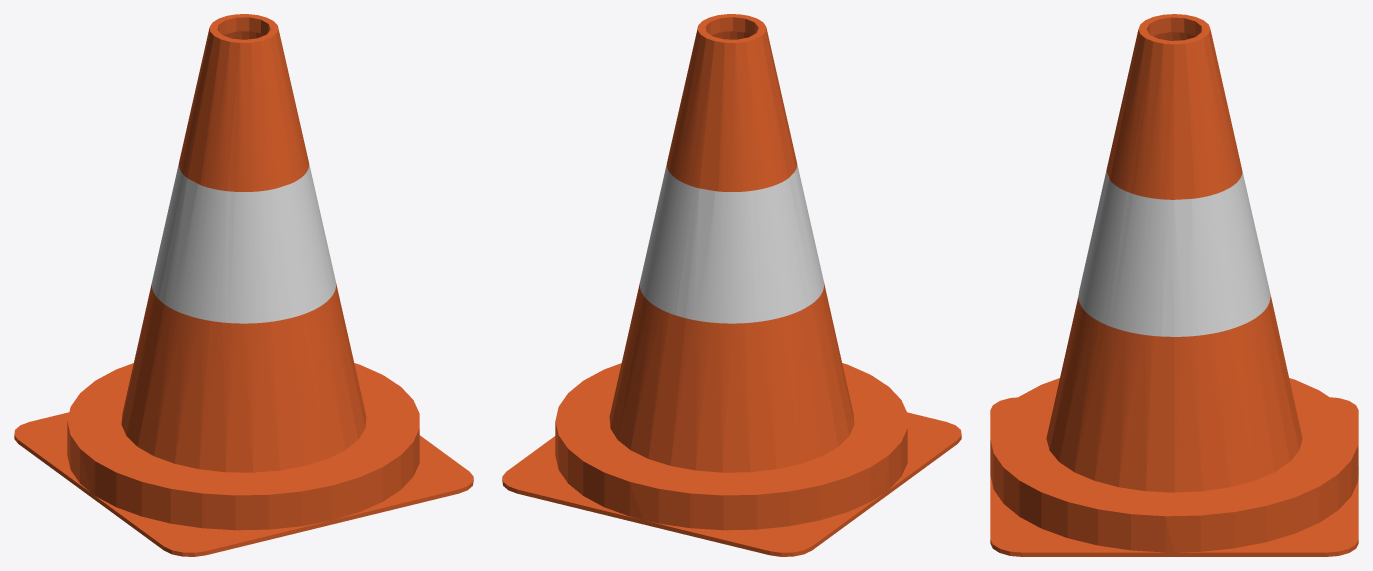
3 renders of one model, left to right at view 1: azimuth 30°, elevation 25°; view 2: azimuth 150°, elevation 25°; view 3: azimuth 270°, elevation 25°, orthographic. The views are drawn at different scales.
Visible parts, largest first — view 1: orange_cone_stl; view 2: orange_cone_stl; view 3: orange_cone_stl.
Boxes of the visible parts, <box> form: orange_cone_stl: <box>14,14,473,556</box>; orange_cone_stl: <box>502,14,961,556</box>; orange_cone_stl: <box>990,14,1358,556</box>.
Size of the model in its own units: 0.23 by 0.23 by 0.31.
